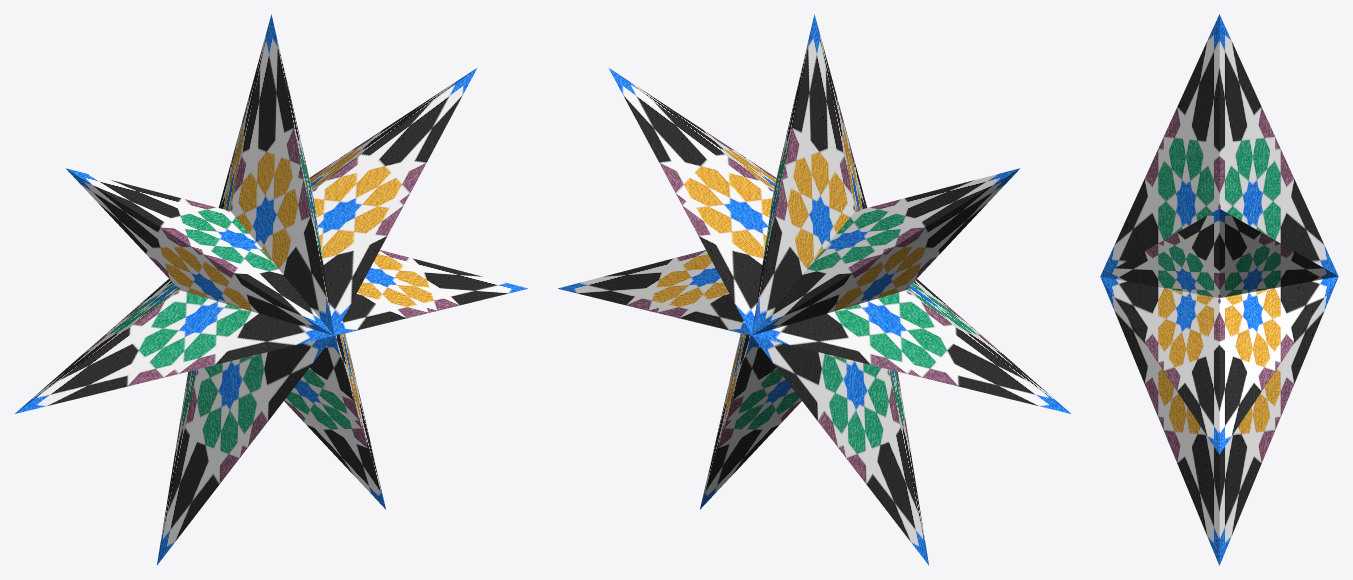
File: HeptagrammicDipyramidA.obj
3 views of the same model, side by side, from view 1: azimuth 30°, elevation 25°; view 2: azimuth 150°, elevation 25°; view 3: azimuth 270°, elevation 25° (orthographic). The views are drawn at different scales.
Bounding box in the file's own units: 3.32 × 3.23 × 1.4.
Materials: 1 (1 with a texture image).
